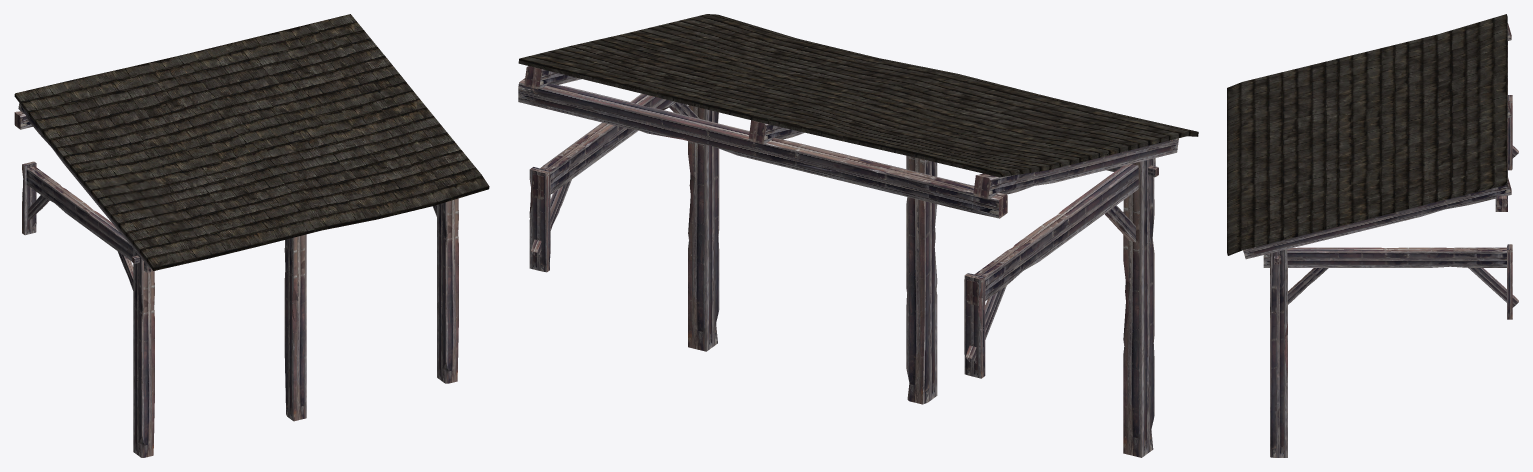
The model's file is awning_01.fbx.
3 views of the same model, side by side, from view 1: azimuth 30°, elevation 25°; view 2: azimuth 150°, elevation 25°; view 3: azimuth 270°, elevation 25° (orthographic). The views are drawn at different scales.
Visible parts, largest first — view 1: TO14_SM_MP_awning_01.mo; view 2: TO14_SM_MP_awning_01.mo; view 3: TO14_SM_MP_awning_01.mo.
Boxes of the visible parts, x1,y1,x2,y2 form: TO14_SM_MP_awning_01.mo: (14,14,489,457); TO14_SM_MP_awning_01.mo: (518,14,1198,457); TO14_SM_MP_awning_01.mo: (1227,14,1518,457).
Bounding box in the file's own units: 477 × 382 × 357.
